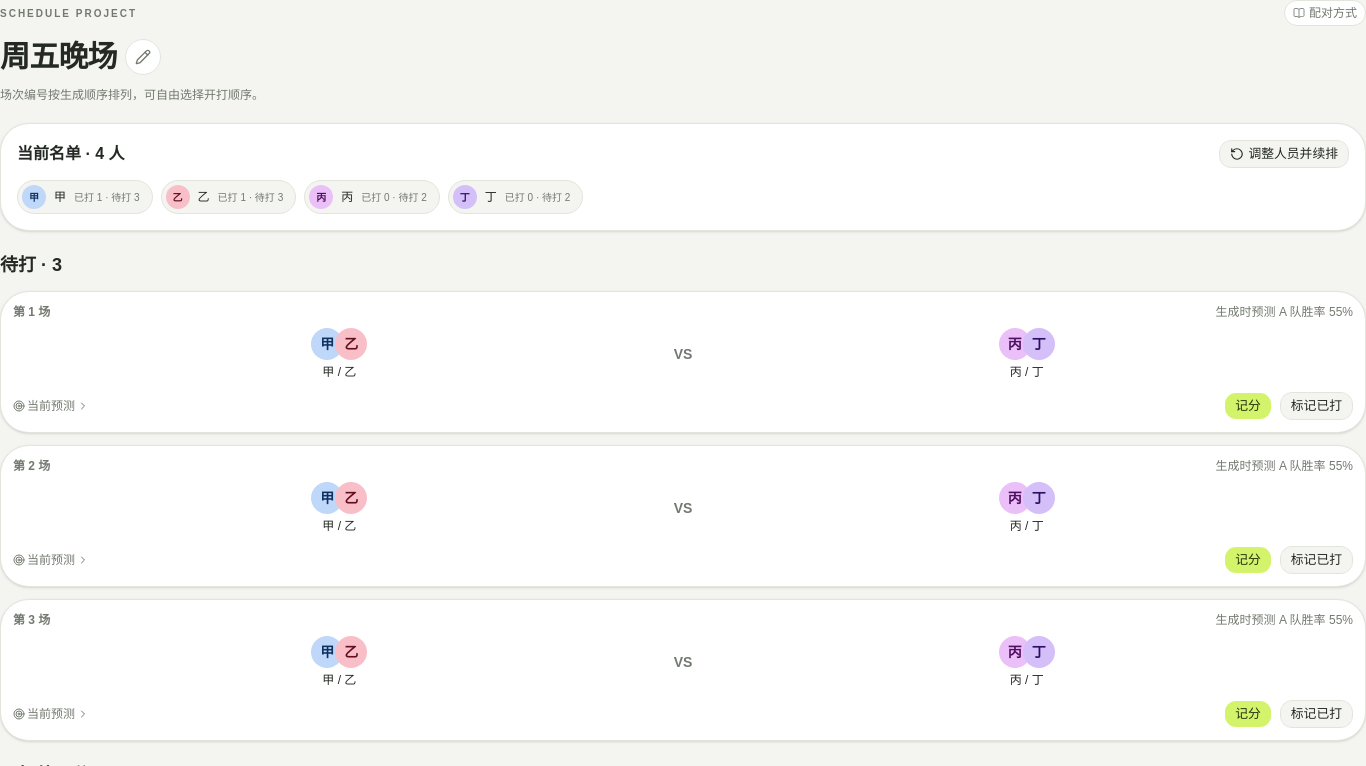
Test: ProjectDetailClient（/schedule/[projectId] 详情） › 名单不足 4 人时提交按钮切换为「保存名单，暂不安排比赛」
Step 1. Click the button "调整人员并续排" → click(1284, 154), box [1219, 140, 1349, 168]
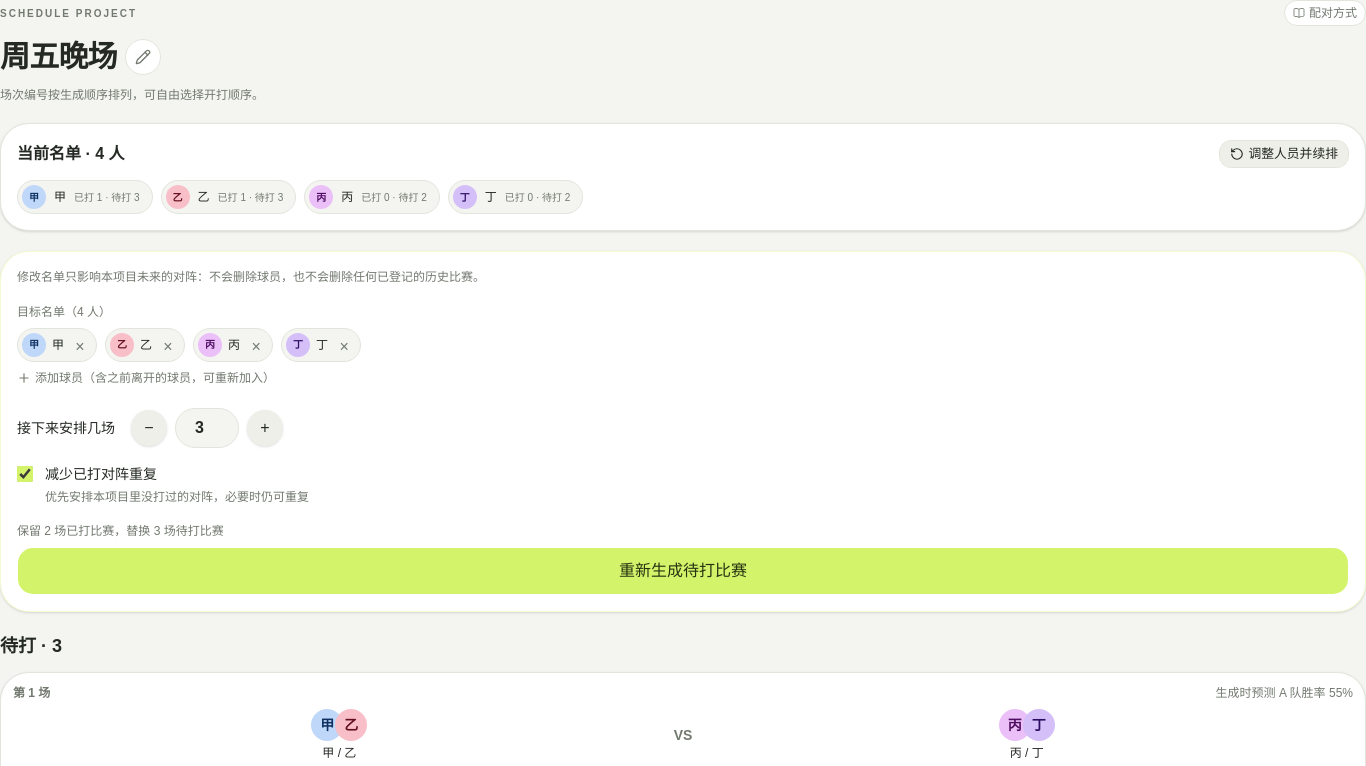
Check: the button "重新生成待打比赛" is shown, box [17, 547, 1349, 595]
Step 2. Click the button named "移除 丁" → click(344, 344), box [334, 334, 354, 354]
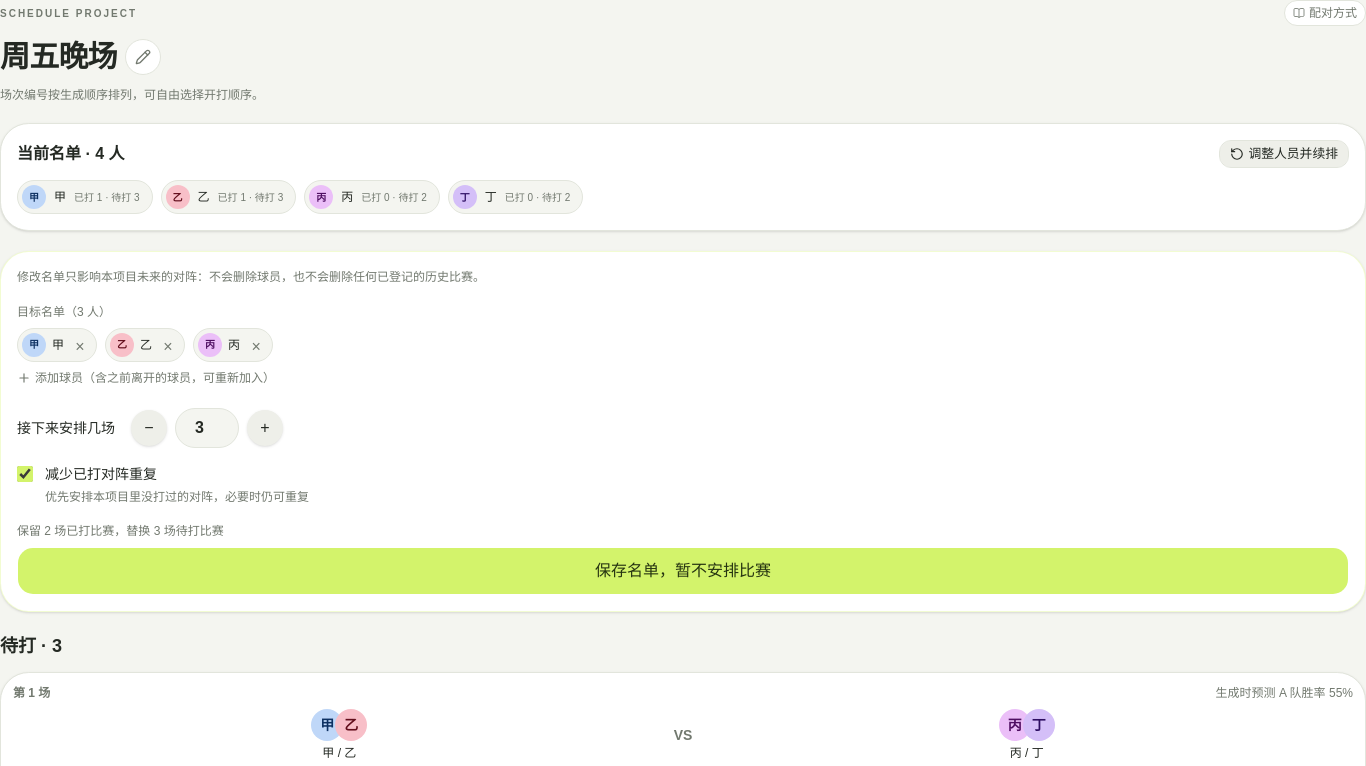
Check: the text "修改名单只影响本项目未来的对阵：不会删除球员，也不会删除任何已登记的历史比赛。" is shown, box [17, 270, 485, 284]
Check: the button "保存名单，暂不安排比赛" is shown, box [17, 547, 1349, 595]
